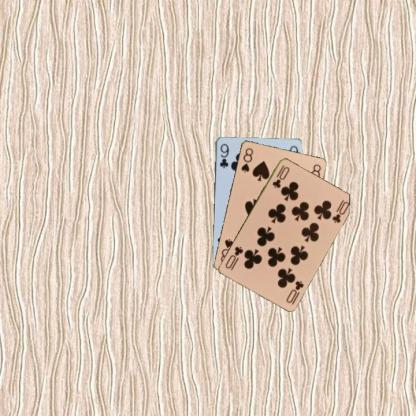10c: (270, 162, 290, 190), (284, 278, 305, 304)
8s: (239, 145, 254, 173)
9c: (218, 141, 230, 169)
